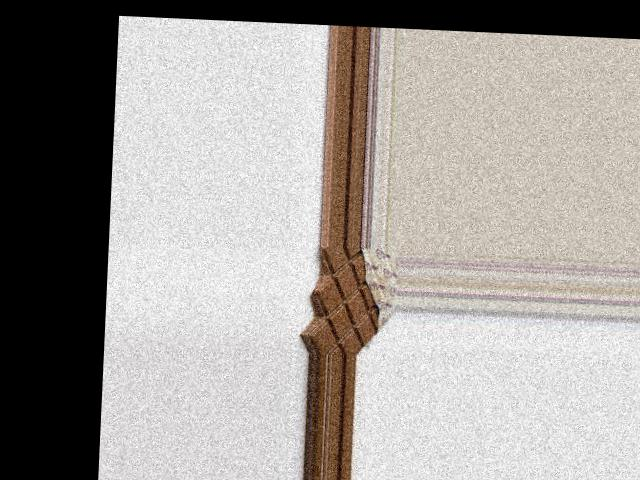chocolate: (307, 244, 397, 355)
